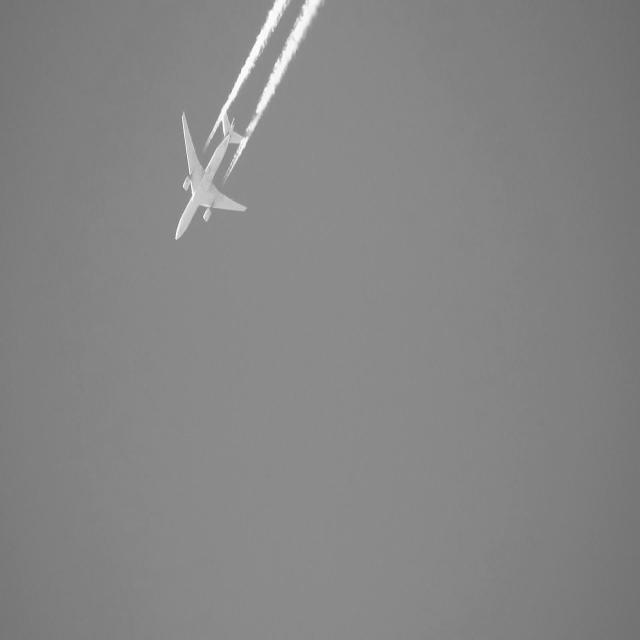aeroplane: (174, 104, 249, 247)
